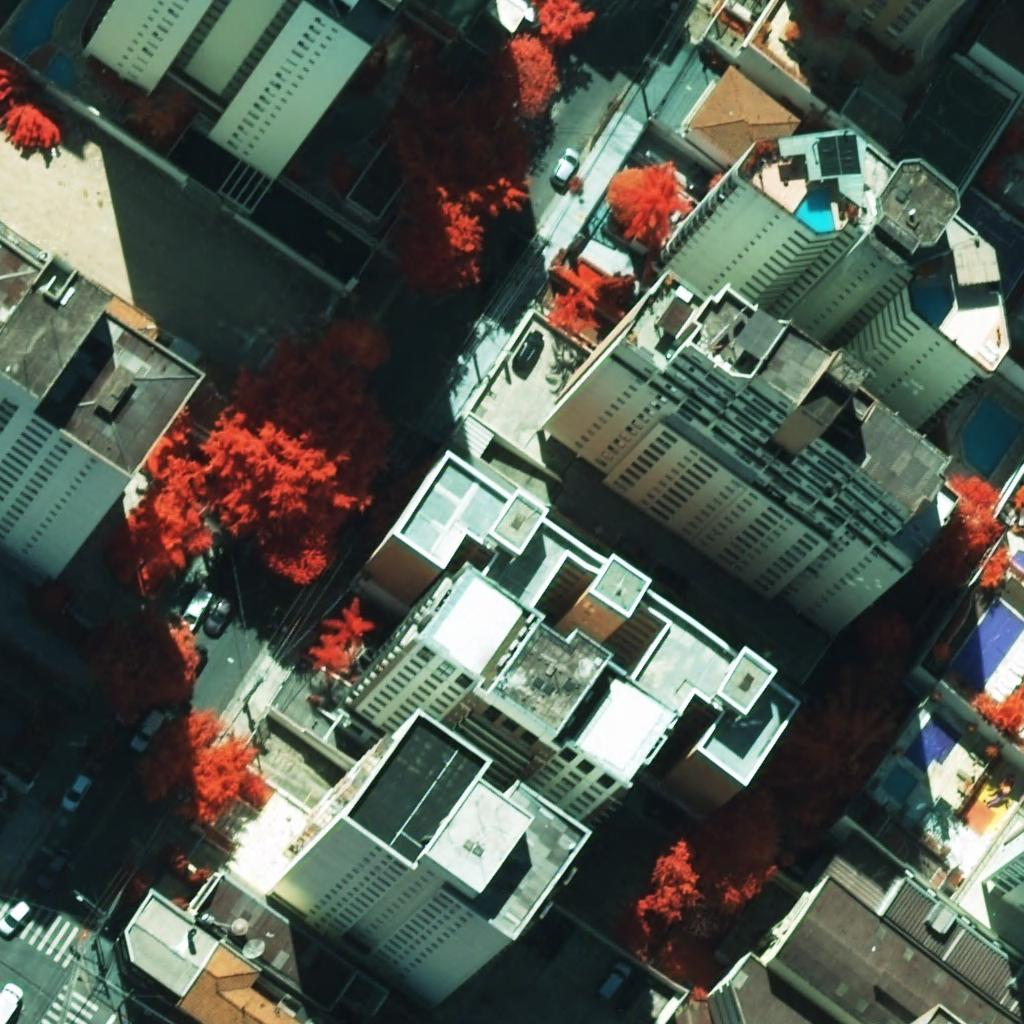pool: (951, 599, 1024, 690), (11, 0, 75, 96), (962, 397, 1024, 479), (904, 712, 962, 772), (793, 190, 834, 233), (1012, 551, 1024, 569)
